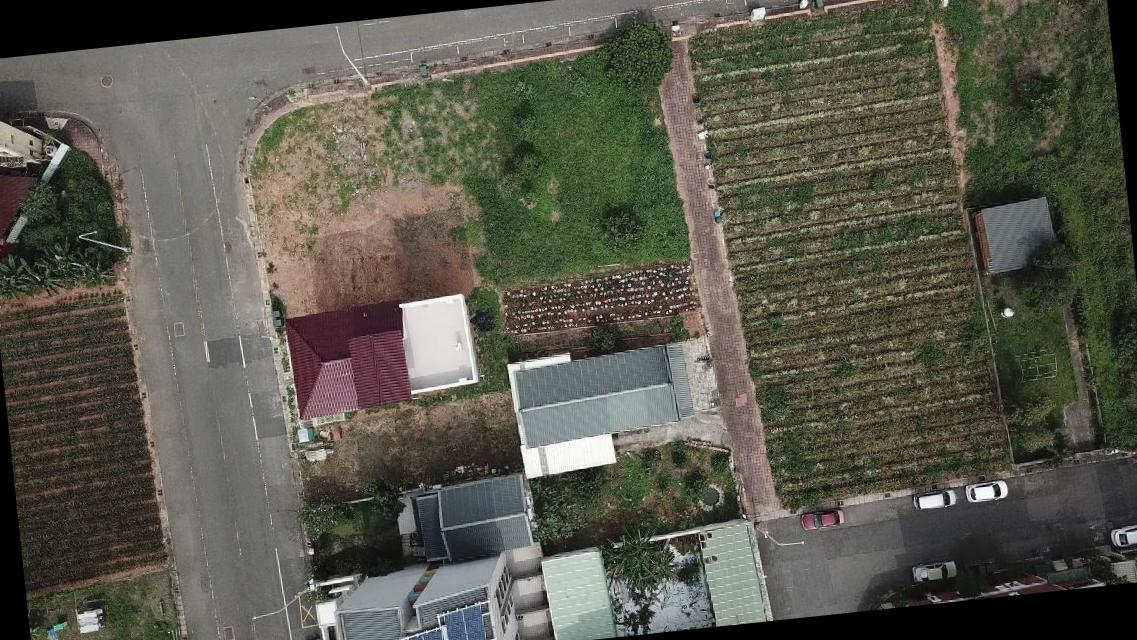vehicle: (910, 558, 960, 586), (799, 506, 846, 532), (962, 479, 1010, 503), (911, 490, 959, 513), (1106, 518, 1136, 550)
